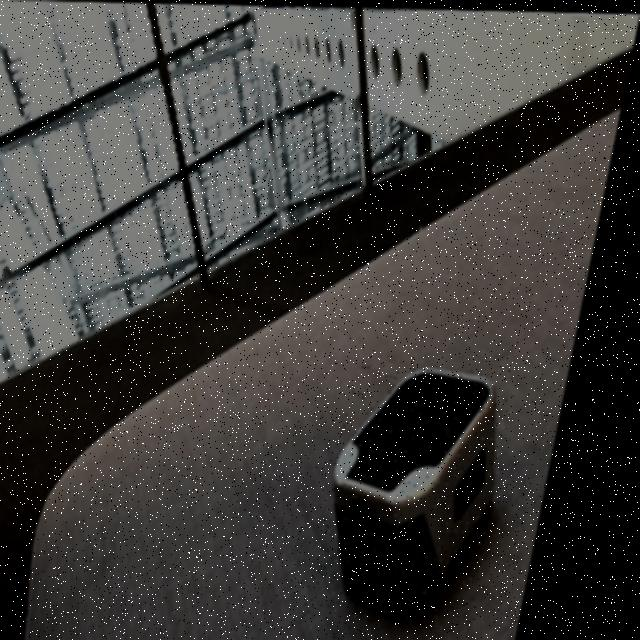adapter: (328, 361, 534, 616)
